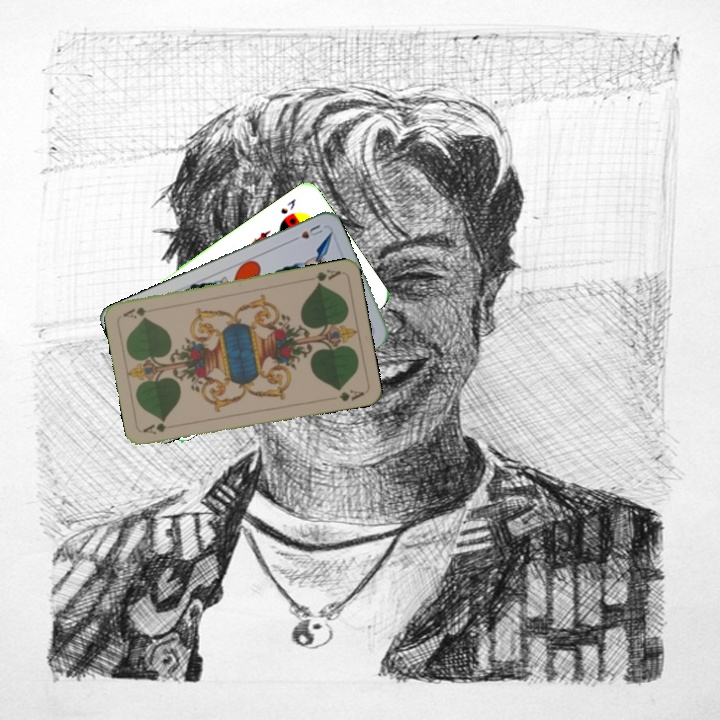GA: (139, 419, 180, 437), (312, 265, 343, 287)
HU: (288, 221, 325, 245)
SK: (276, 194, 299, 217)
